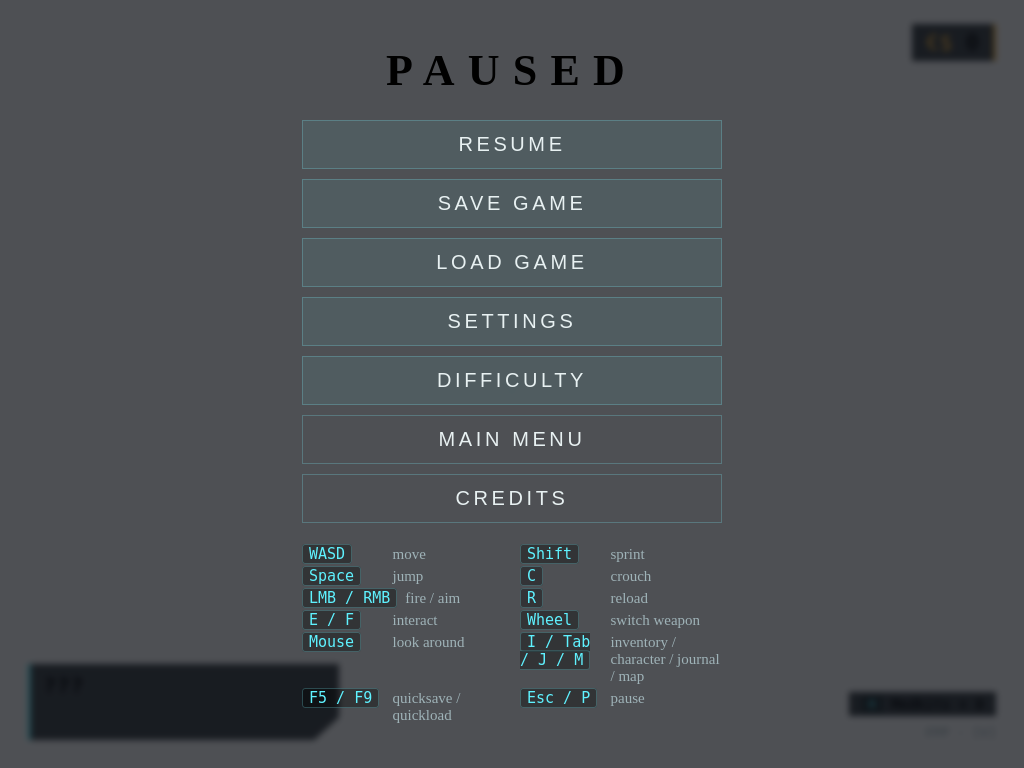
Test case: save slot label › names the preset a slot was played on, small, and nothing when unknown
Click the button "Load Game": (512, 262) [302,238,722,286]
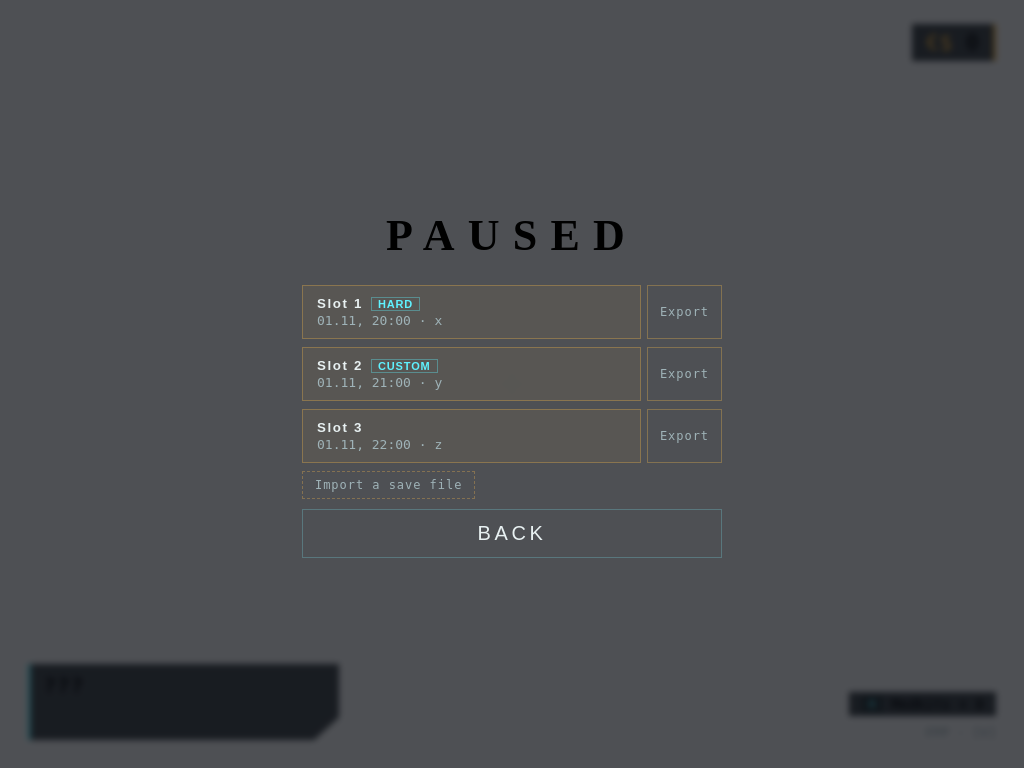
Result: the elements with test id "slot-difficulty" read "Hard", "Custom", in this order at [371,298,420,312]; [371,360,438,374]
Result: the text named "Difficulty: Hard" is shown at [371,298,420,312]
